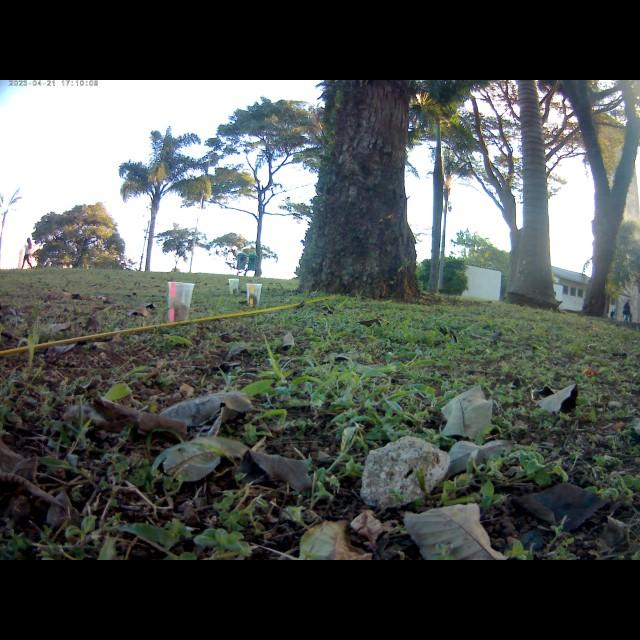arvore: (301, 85, 429, 301)
